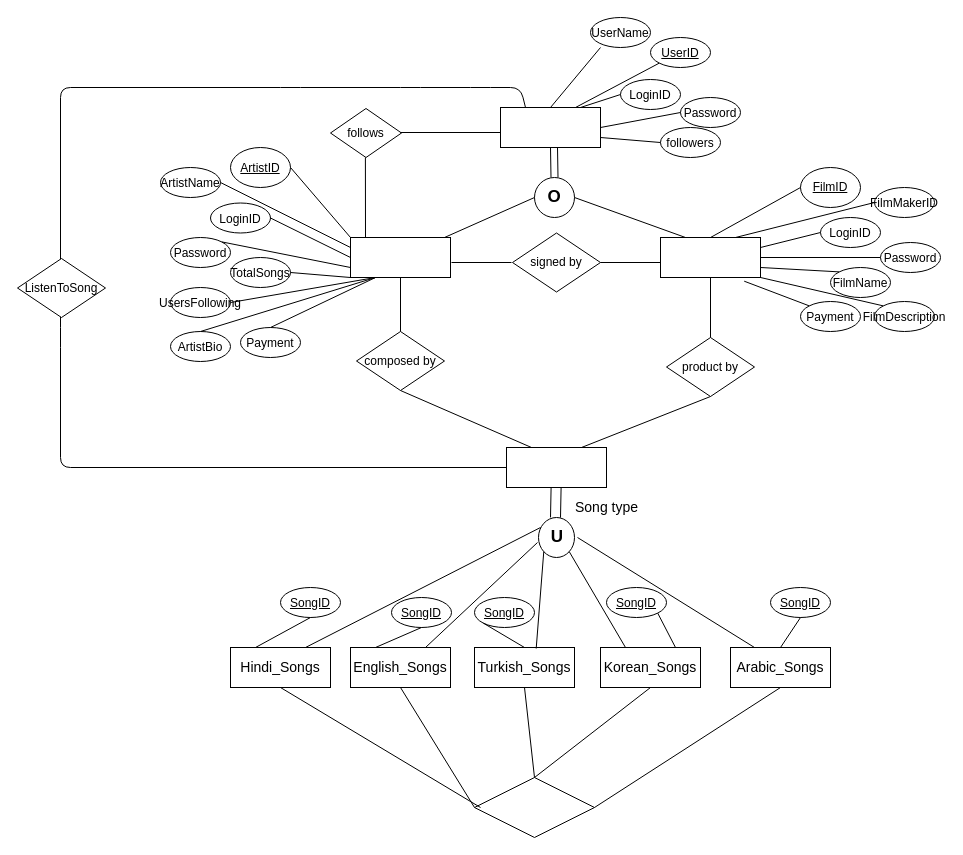
The diagram is 963 pixels wide and 855 high, and some of its shapes have lost their labels. The shapes that lost their labels are listed below. From the top down, each one's centre as x and y in pixels, then its label:
(x=550, y=127): user
(x=400, y=257): Artist
(x=710, y=257): FilmMakers
(x=556, y=467): Song
(x=534, y=807): Has
